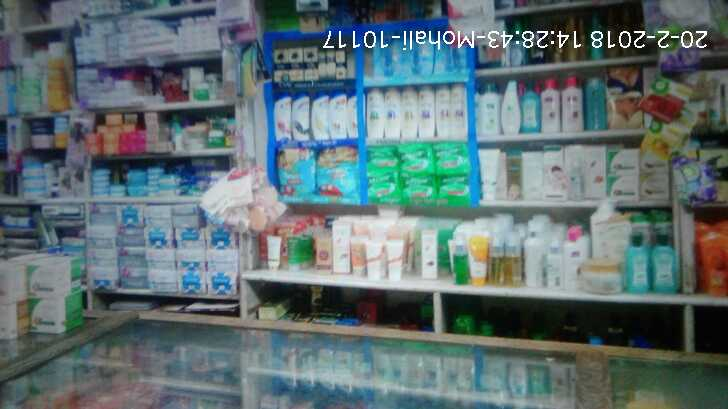venus: (405, 34, 435, 75), (375, 37, 405, 75), (435, 34, 463, 72)
